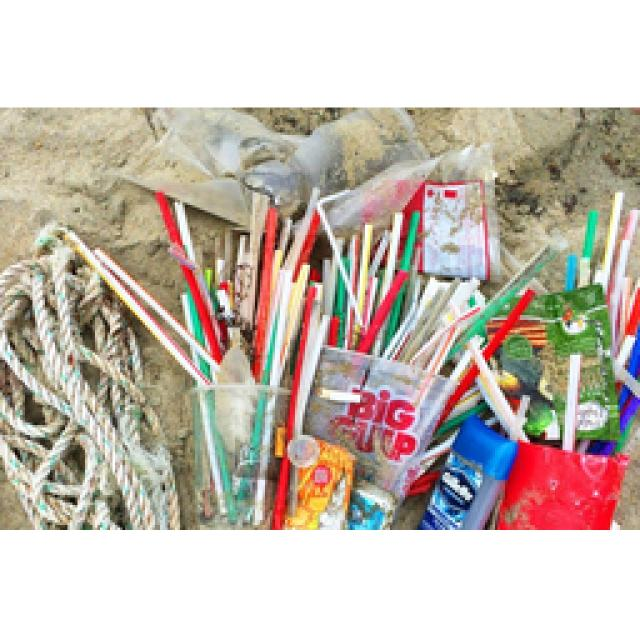plastic: (0, 175, 638, 525), (57, 222, 235, 520)
